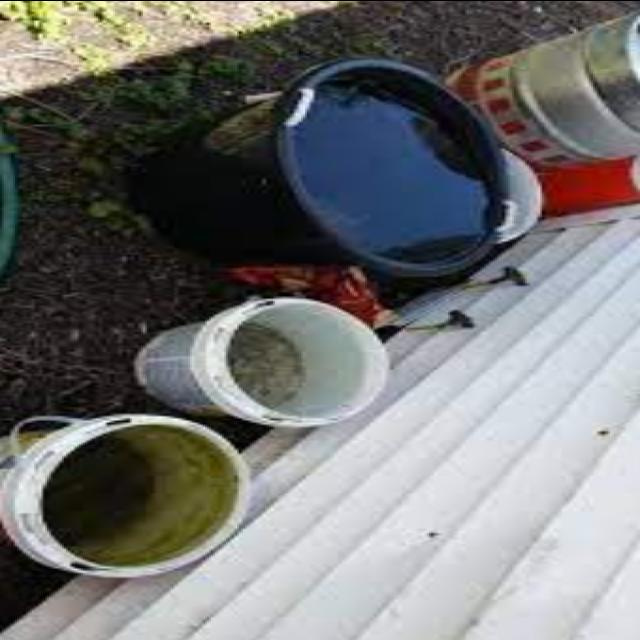Breeding Place: (104, 60, 544, 284), (0, 397, 291, 592), (86, 276, 424, 432)
